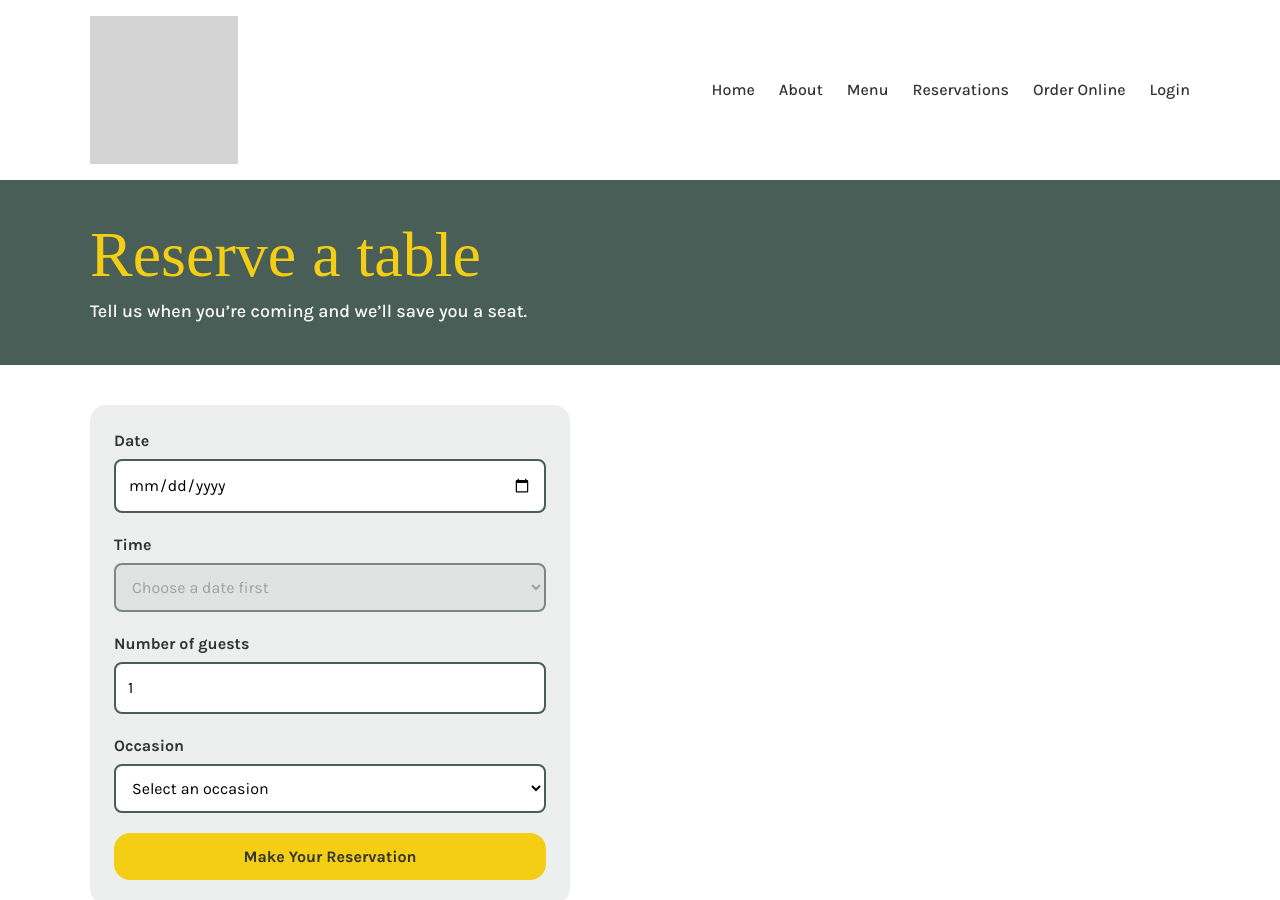
Test: App – booking flow (integration) › invalid submissions stay on the booking page
Click the button "Make Your Reservation" at (330, 857), box x1=114 y1=833 x2=546 y2=880
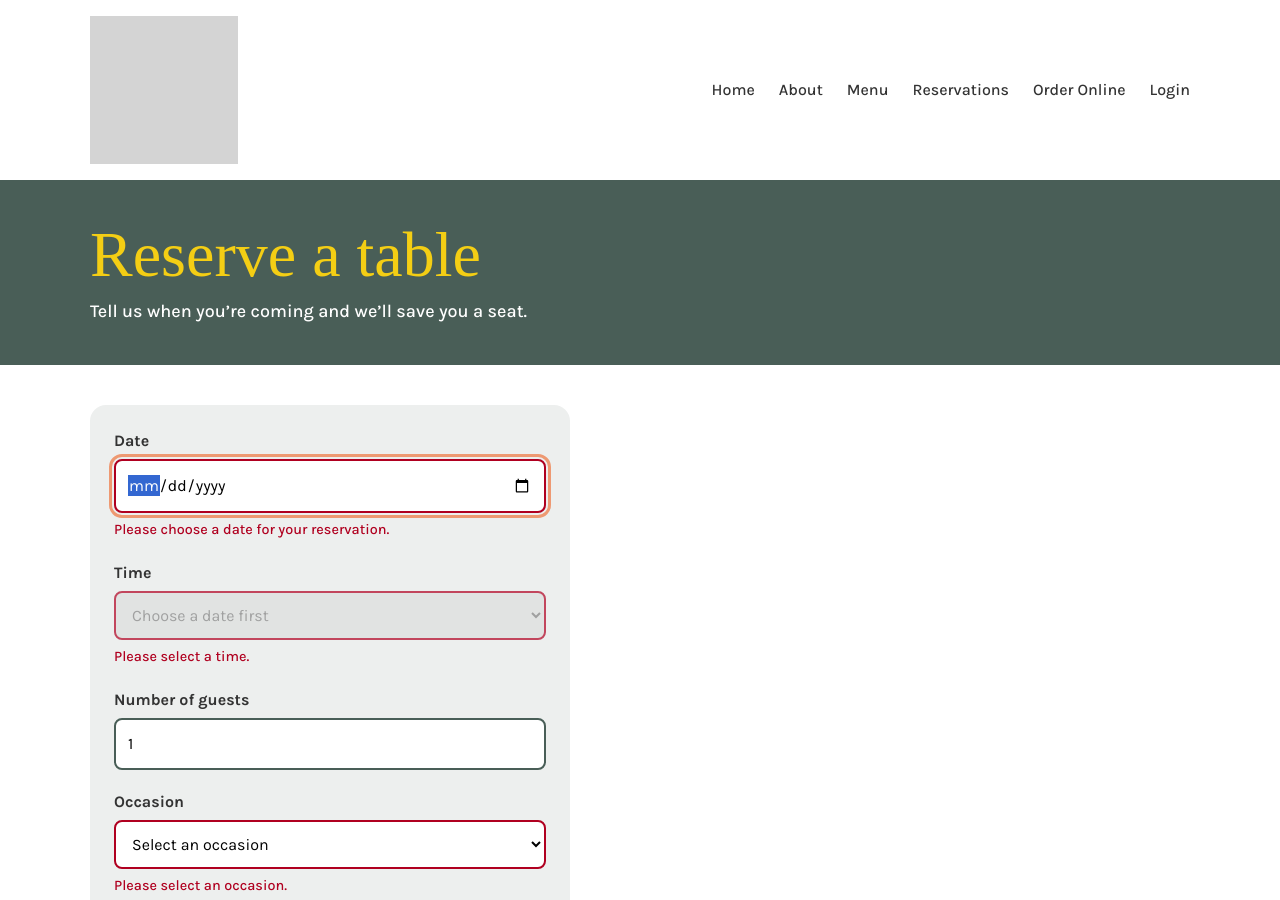
Expected: the text "Please choose a date for your reservation." is shown, x1=114 y1=521 x2=389 y2=538
